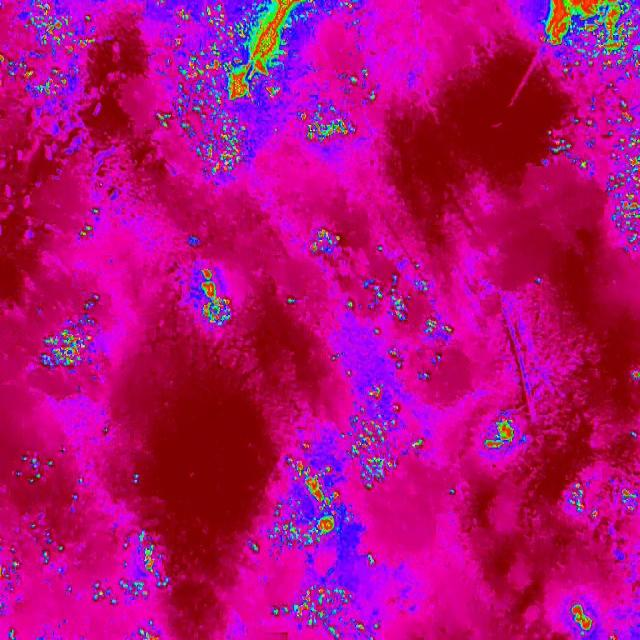fire: (246, 382, 420, 640), (153, 0, 371, 185), (0, 449, 173, 639), (333, 254, 464, 388), (539, 92, 640, 258), (1, 0, 104, 106), (534, 0, 640, 72), (32, 298, 108, 374), (190, 256, 236, 342), (567, 478, 640, 530), (478, 411, 524, 467), (553, 597, 608, 640), (300, 220, 350, 266), (80, 205, 108, 243)
